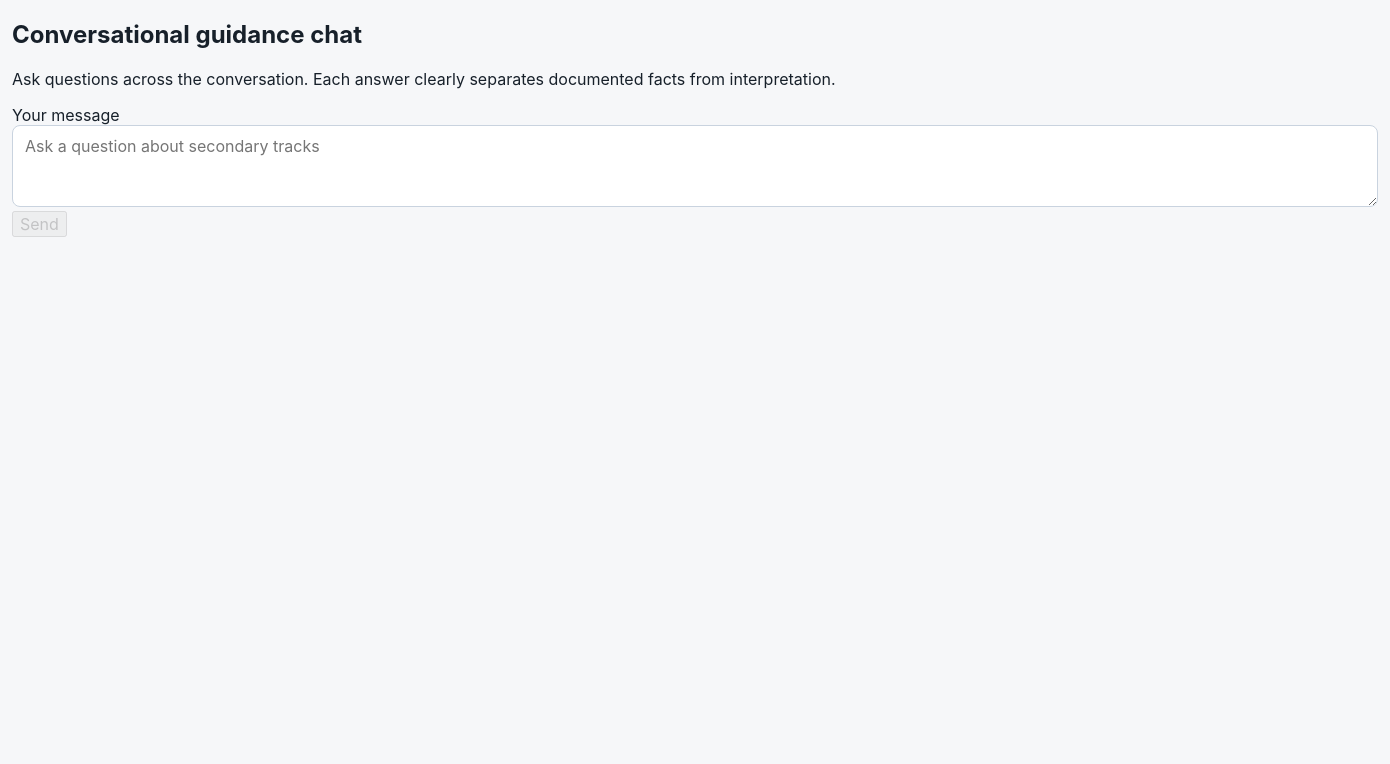
appends multiple turns to the chat history and clears the input
Type "First question?" into the text box labelled "Your message" at x=695, y=166, box [12,125,1378,207]
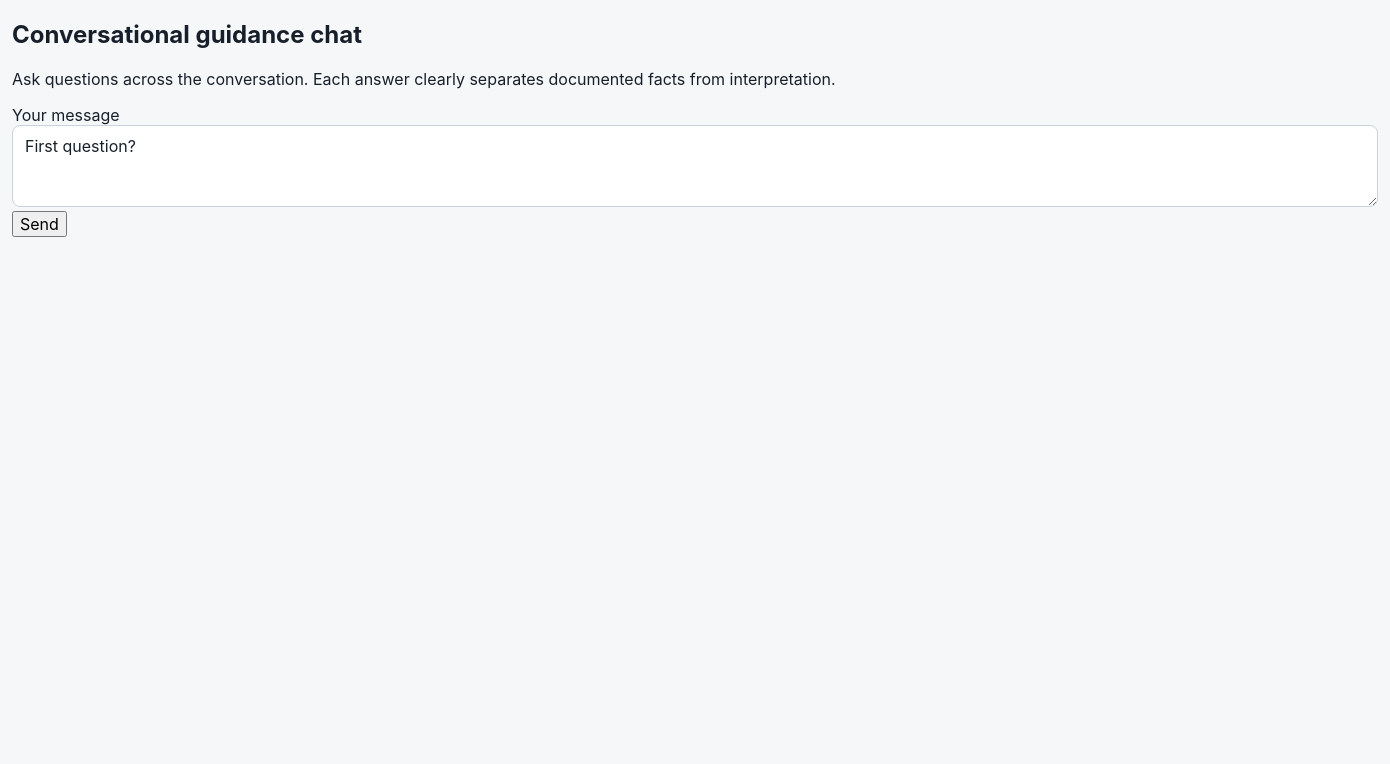
Click the button "Send" at x=39, y=224, box [12,211,67,237]
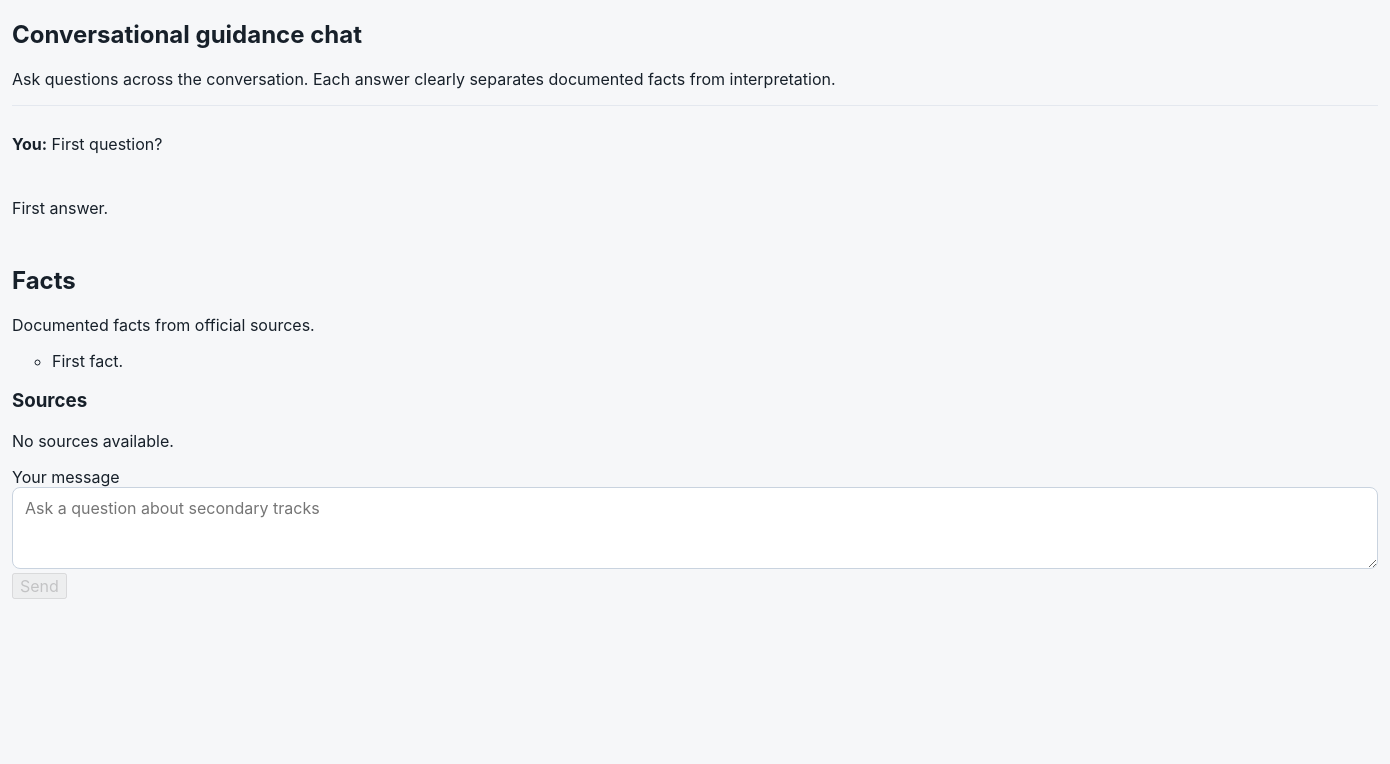
Result: the text "First answer." is shown at [12,198,108,218]
Result: the text box labelled "Your message" is empty
Type "Second question?" into the text box labelled "Your message" at x=695, y=528, box [12,487,1378,569]
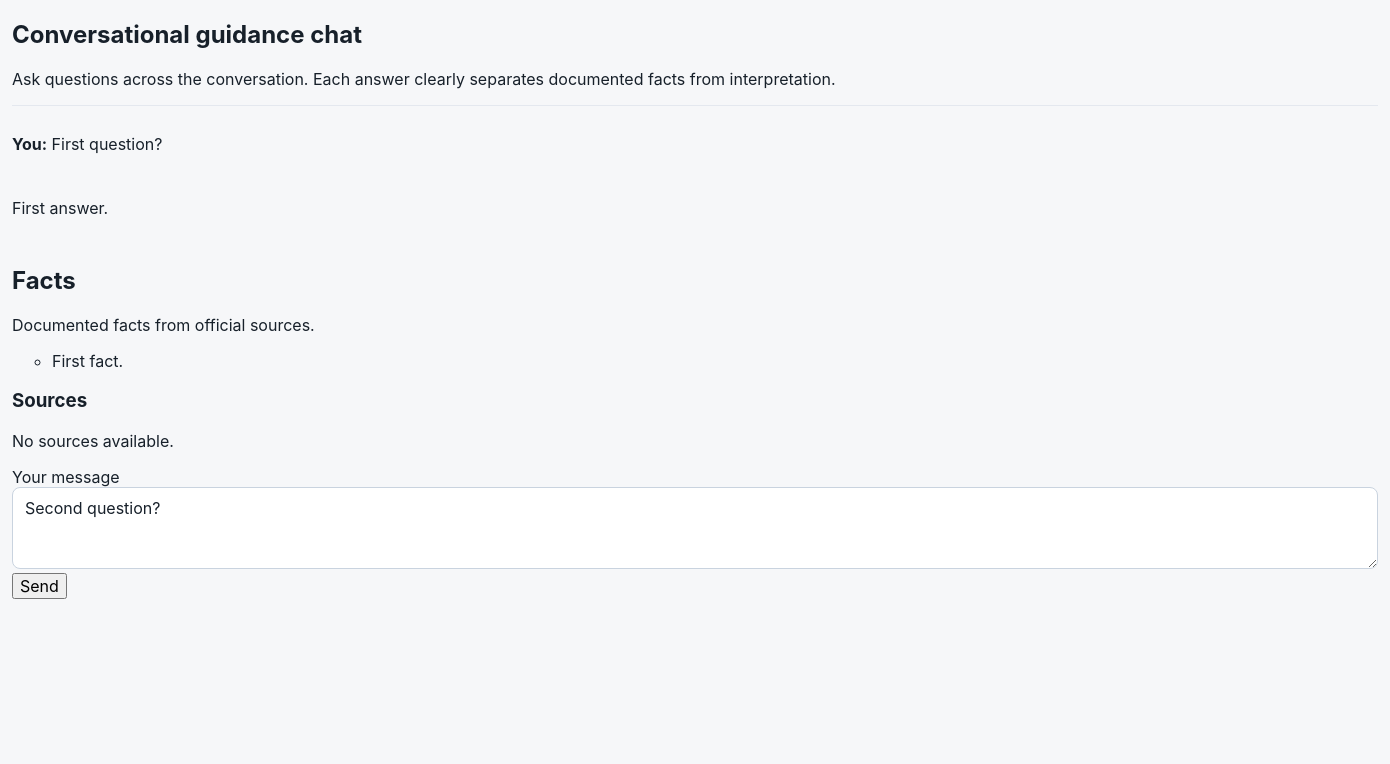
Click the button "Send" at x=39, y=586, box [12,573,67,599]
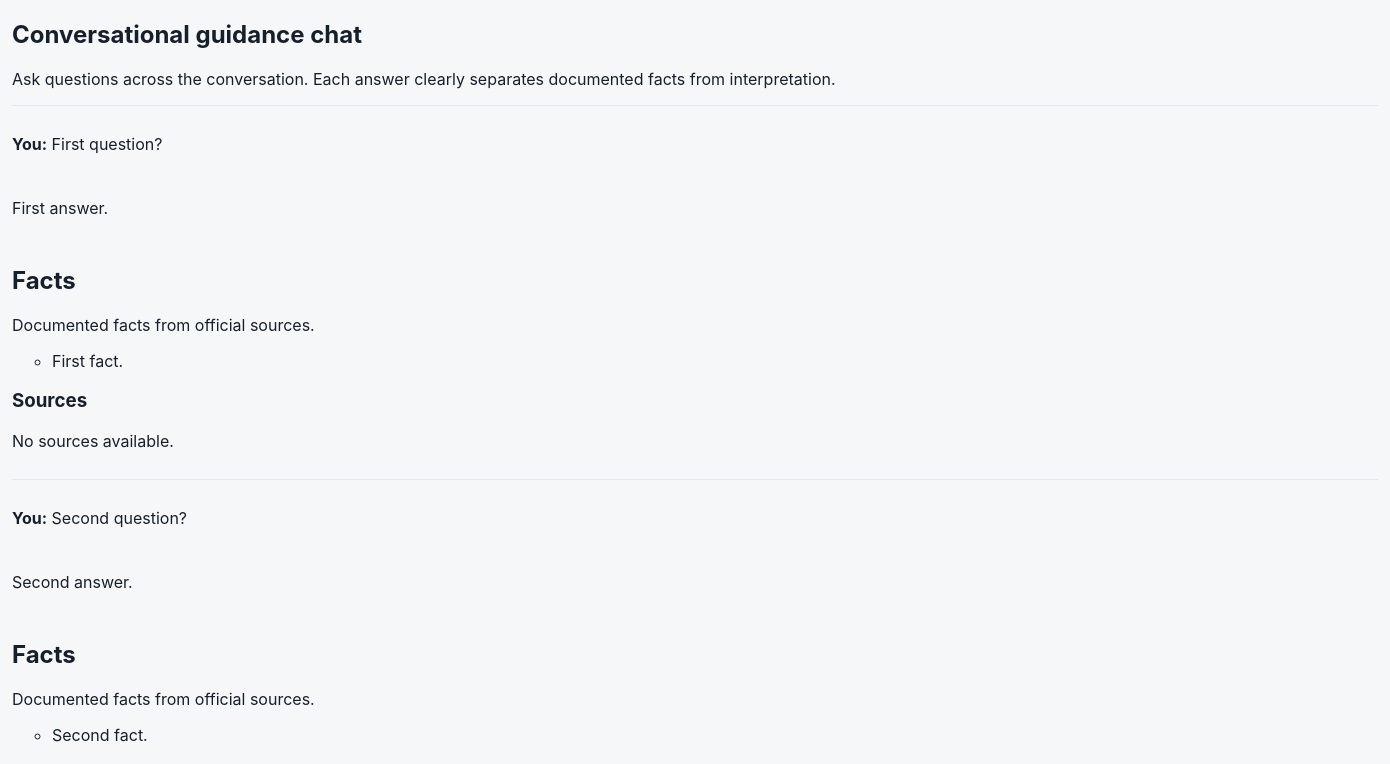
Result: the text "First question?" is shown at [52,134,162,154]
Result: the text "First answer." is shown at [12,198,108,218]
Result: the text "Second question?" is shown at [52,508,187,528]
